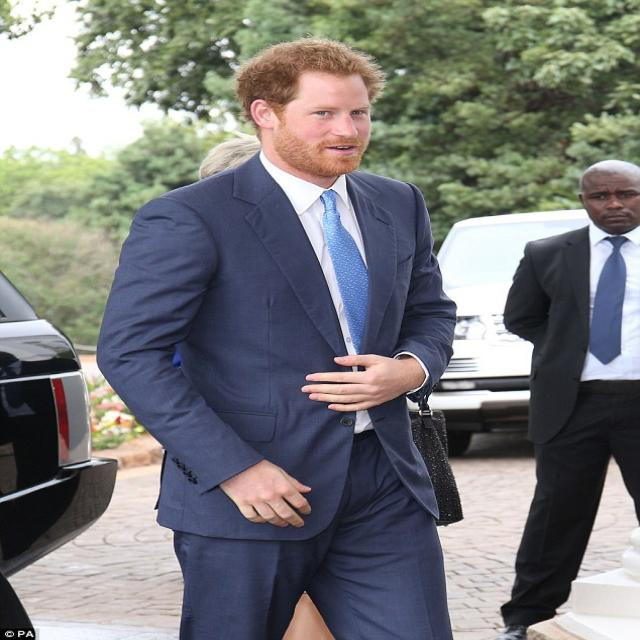body: (90, 32, 511, 640), (486, 155, 639, 639), (196, 132, 337, 640), (0, 565, 41, 638)
